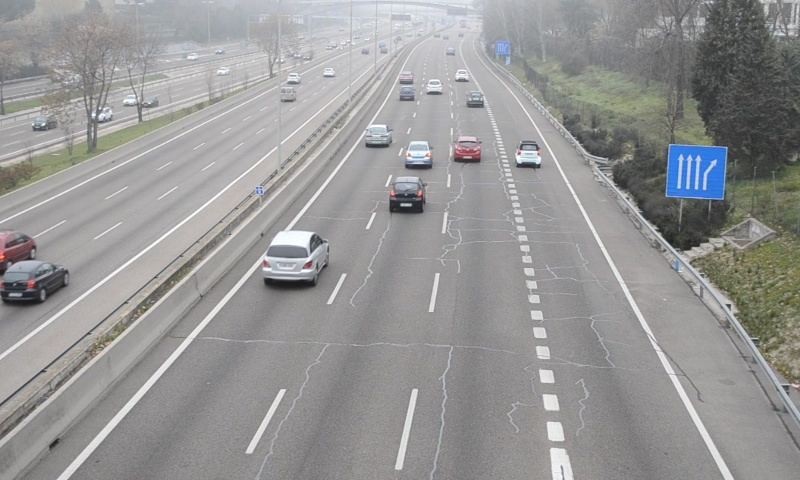car: (260, 230, 329, 282), (389, 174, 424, 211), (404, 140, 434, 169), (454, 135, 482, 164), (515, 140, 543, 168), (364, 122, 394, 147), (466, 90, 484, 108), (426, 77, 444, 94), (398, 86, 414, 102), (398, 70, 414, 84)
